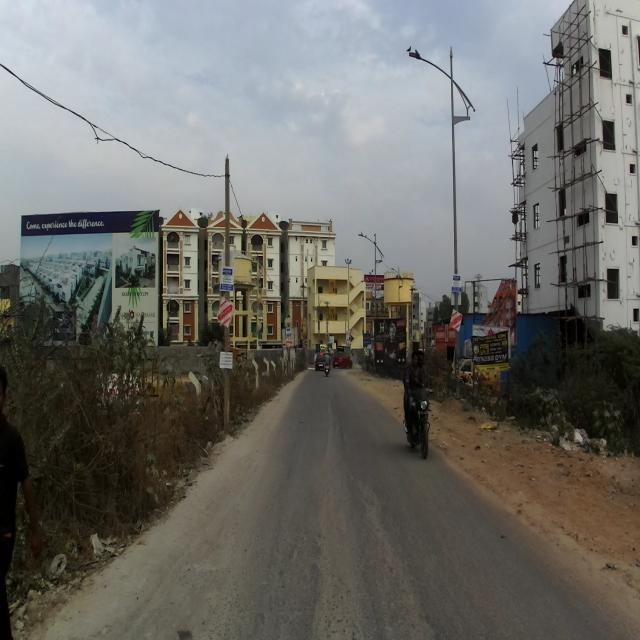electric pole ahead at: (214, 153, 242, 427)
motorcycle ahead at: (399, 386, 435, 472)
